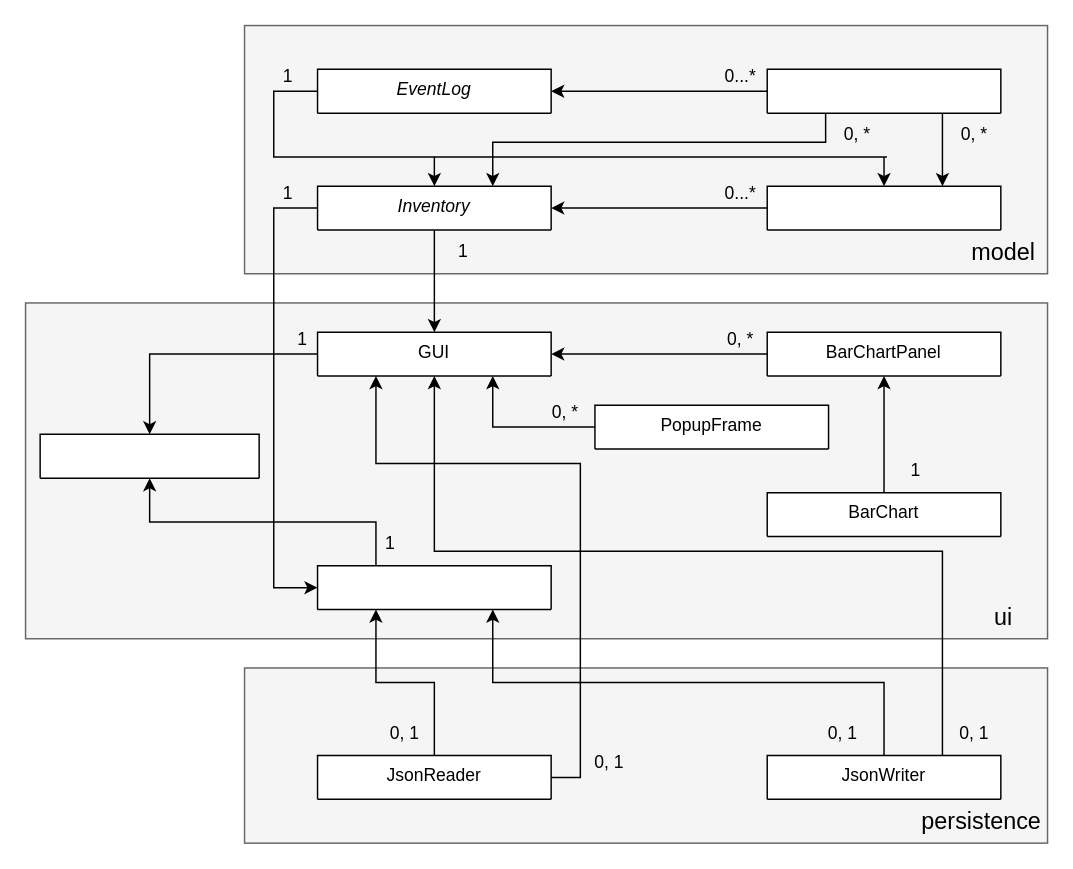
The diagram is 1073 pixels wide and 869 high, and some of its shapes have lost their labels. The shapes that lost their labels are listed below. From the top down, each one's box as (x1, y1, x2, y2) in pixels, then its label:
(766, 68, 1001, 113): Event
(766, 185, 1001, 230): Item
(39, 433, 259, 478): Main
(316, 564, 551, 610): Warehouse
